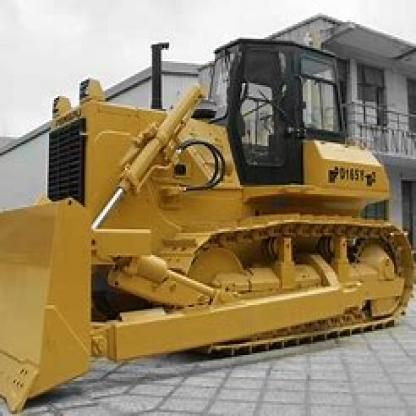bull_dozer/loader/grader: (3, 18, 414, 407)
